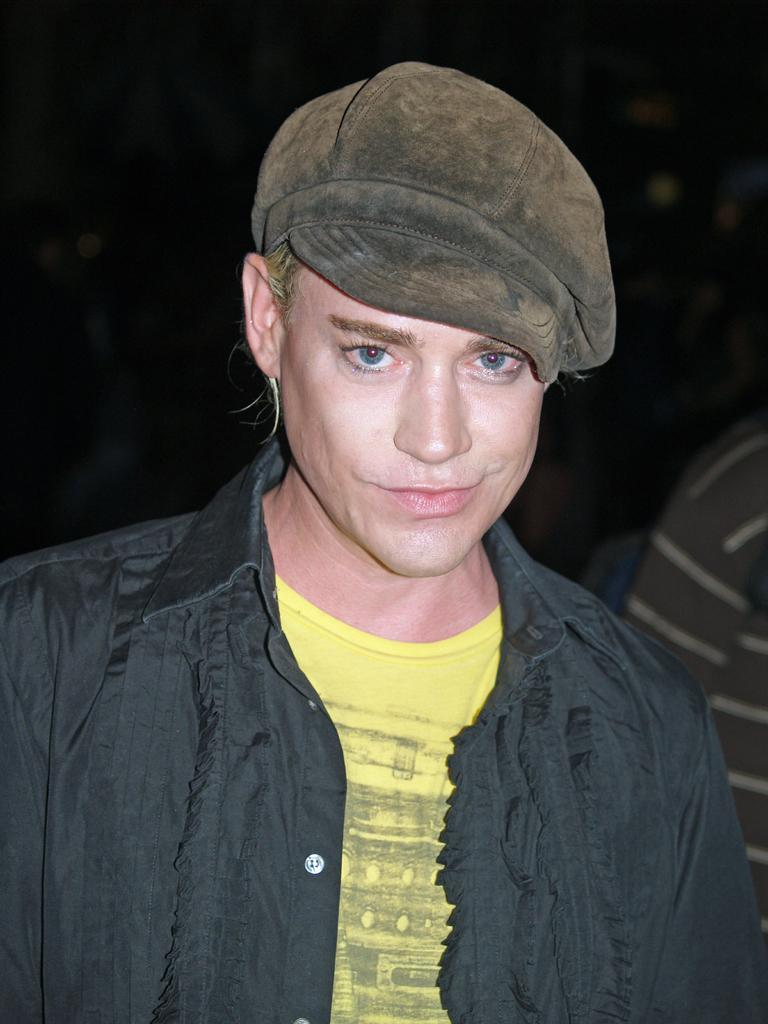Hat: (250, 56, 610, 389)
